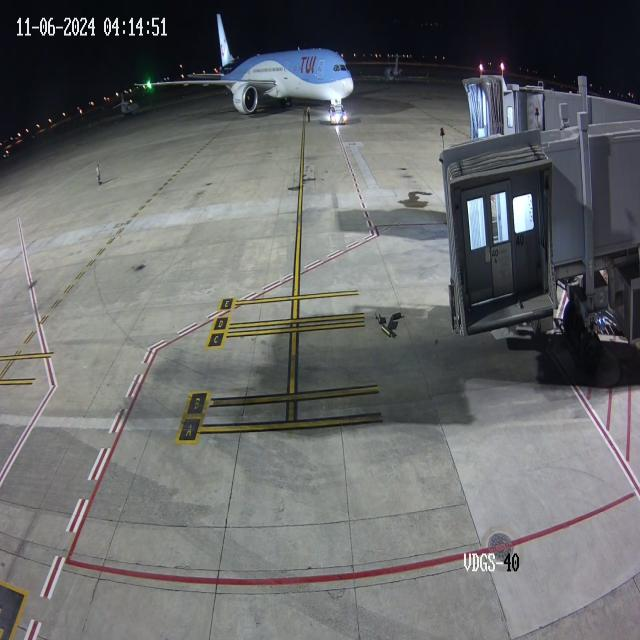bridge: (490, 73, 544, 138)
plane: (124, 0, 360, 125)
window: (331, 61, 351, 75)
